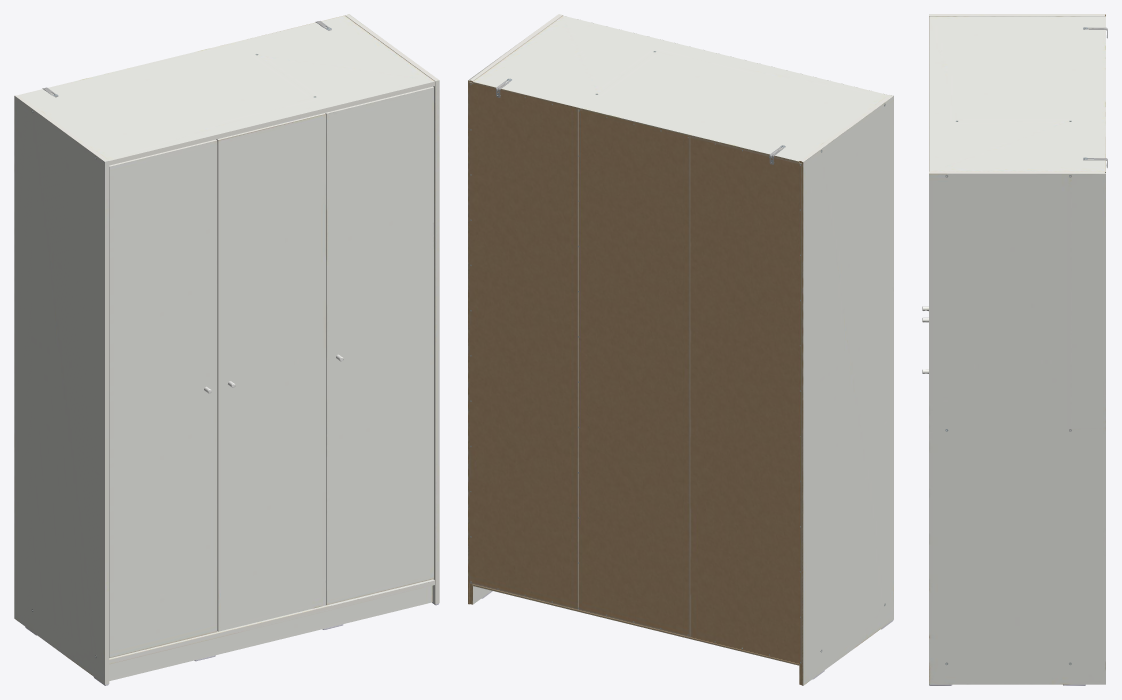
The model's file is kleppstad_szafa_3_drzwi_00441758.glb.
3 views of the same model, side by side, from view 1: azimuth 30°, elevation 25°; view 2: azimuth 150°, elevation 25°; view 3: azimuth 270°, elevation 25° (orthographic). The views are drawn at different scales.
Visible parts, largest first — view 1: kleppstad_szafa_3_drzwi_00441758; view 2: kleppstad_szafa_3_drzwi_00441758; view 3: kleppstad_szafa_3_drzwi_00441758.
Part boxes in pixels (box(x1,y1,x2,y2)): kleppstad_szafa_3_drzwi_00441758: box(14, 14, 439, 685); kleppstad_szafa_3_drzwi_00441758: box(468, 14, 893, 685); kleppstad_szafa_3_drzwi_00441758: box(922, 14, 1107, 685).
Bounding box in the file's own units: 1.17 × 1.76 × 0.5752.
Materials: 1 (1 with a texture image).
